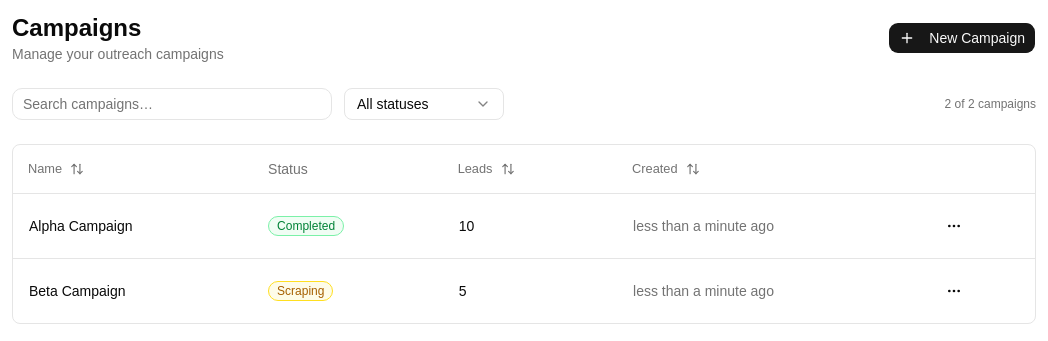
CampaignList › shows reset button when filters are active
Check: the link "Alpha Campaign" is shown, box 29,218 -> 132,234
Type "test" into the field with placeholder "Search campaigns…" at [172, 104], box 12,88 -> 332,120
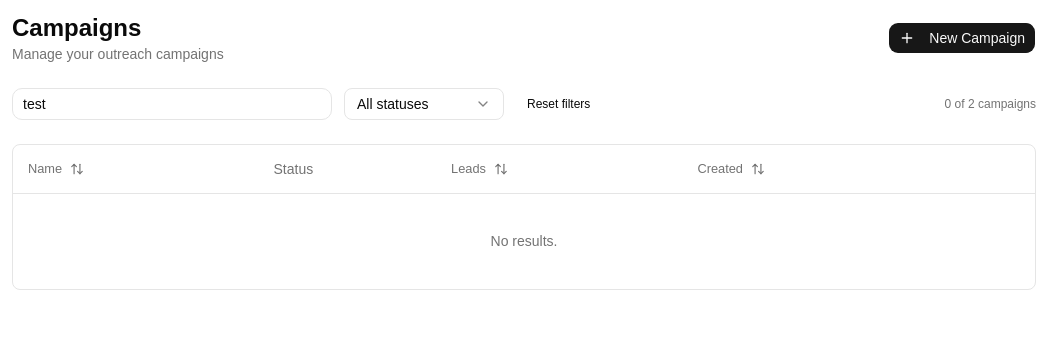
Check: the button "Reset filters" is shown, box 516,88 -> 601,120
